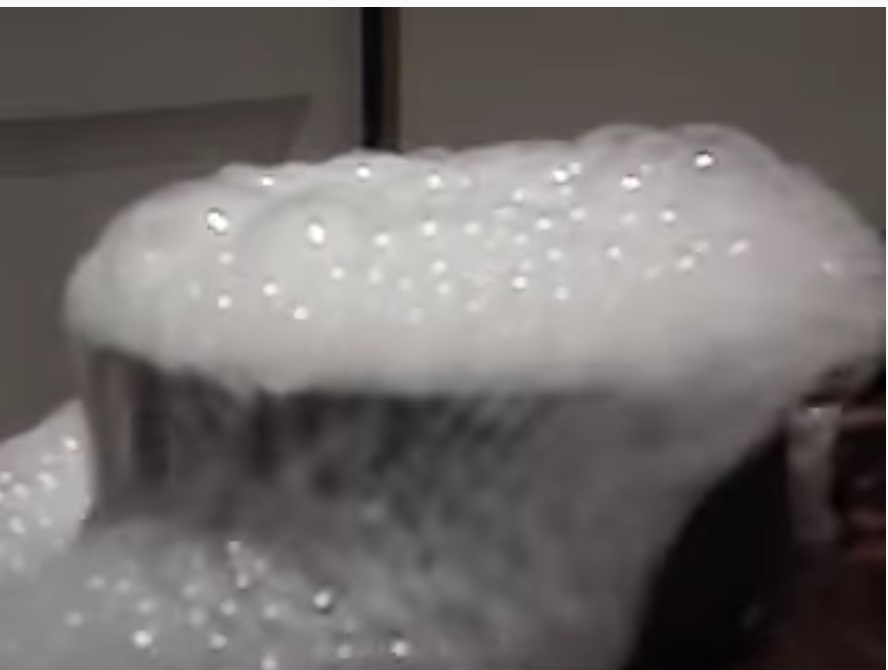Boiled: (62, 111, 868, 604)
